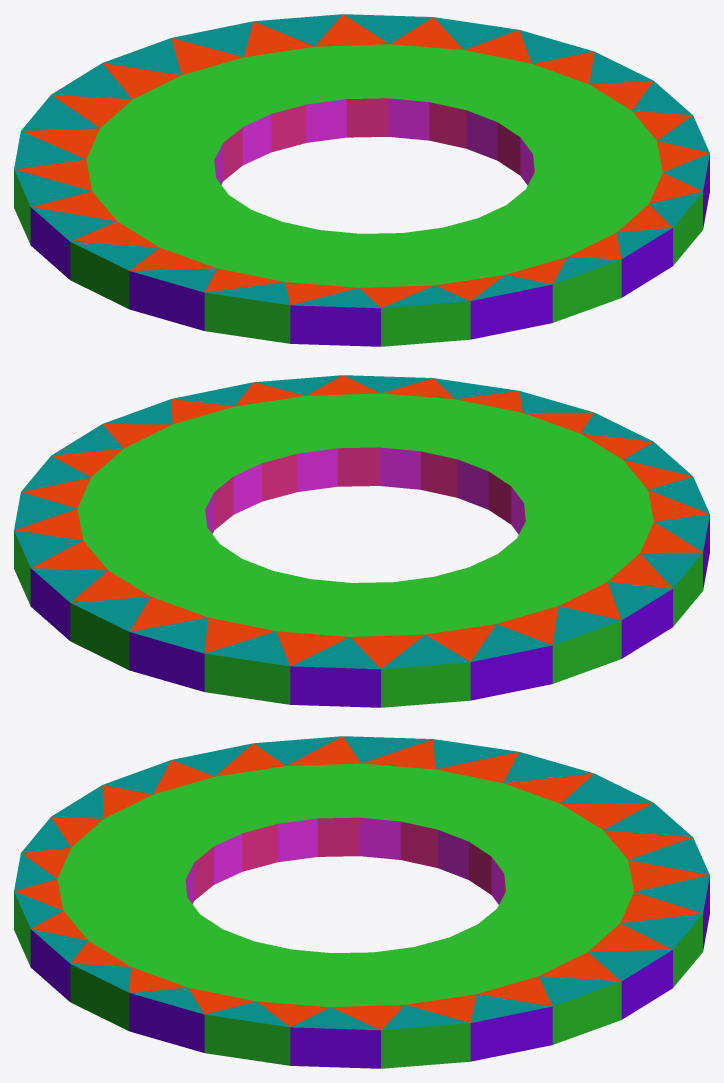
3 views of the same model, one above another, from view 1: azimuth 30°, elevation 25°; view 2: azimuth 150°, elevation 25°; view 3: azimuth 270°, elevation 25° (orthographic).
Parts seen in each view (by area): view 1: SketchUp (×65); view 2: SketchUp (×65); view 3: SketchUp (×65).
Boxes of the visible parts, bbox=[...] form: SketchUp (×65): bbox=[14, 14, 709, 346]; SketchUp (×65): bbox=[14, 375, 709, 707]; SketchUp (×65): bbox=[14, 736, 709, 1068].
Size of the model in its own units: 6701 by 6701 by 409.
